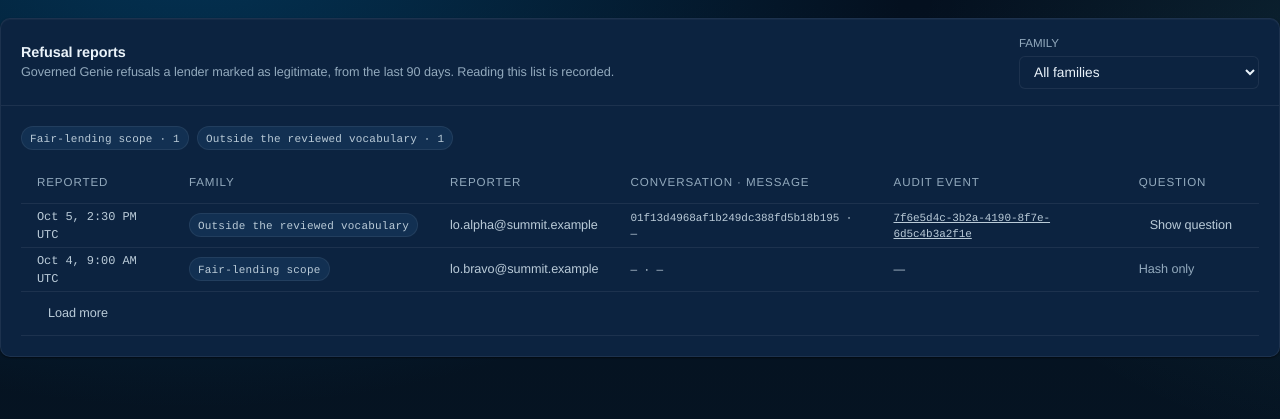
Test: RefusalReportsPanel › a 404 shows its fixed copy and no text
Click the button with test id "refusal-report-show-question". click: (1191, 225)
box: [1139,210,1243,240]
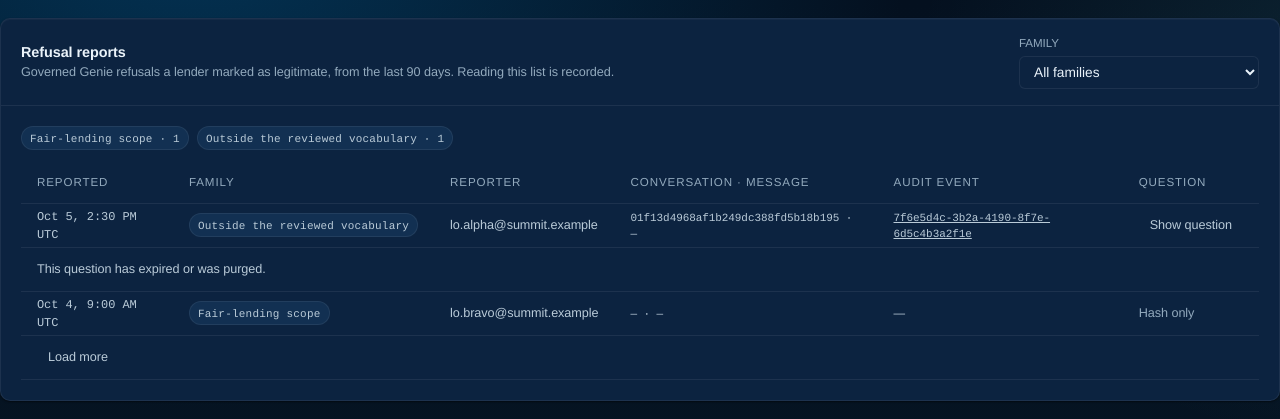
Expected: the message "This question has expired or was purged." is shown, [37,261,266,277]
